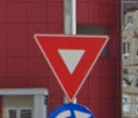cedeaza: (32, 32, 112, 103)
